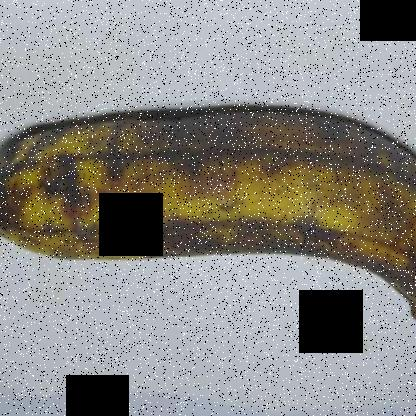overripe: (0, 78, 415, 336)
